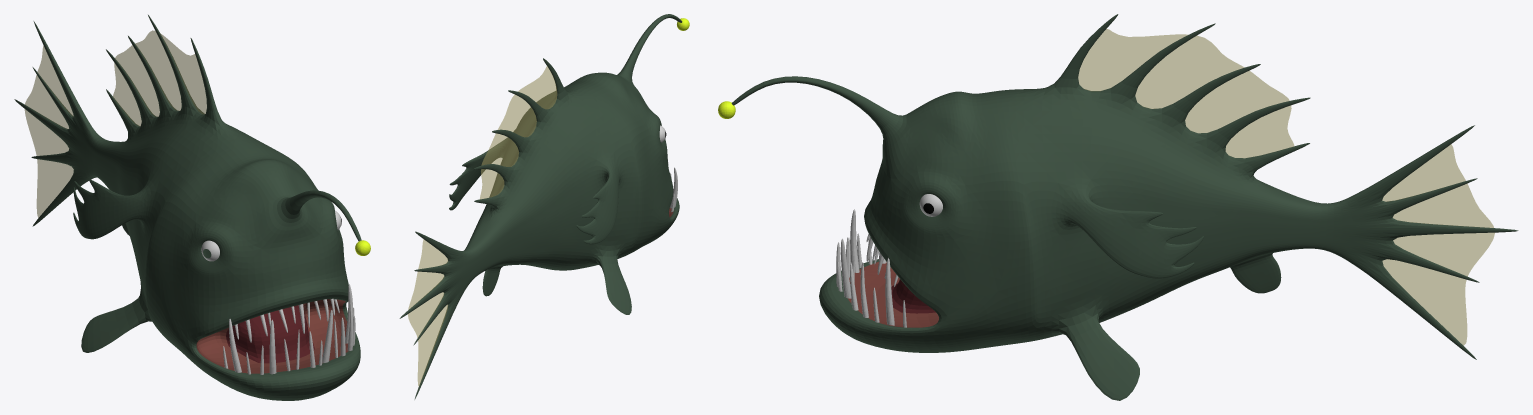
File: anglerfish_04.obj
The picture shows the model from 3 angles, left to right: view 1: azimuth 30°, elevation 25°; view 2: azimuth 150°, elevation 25°; view 3: azimuth 270°, elevation 25°; orthographic projection. The views are drawn at different scales.
Parts seen in each view (by area): view 1: Body, Webbing, Teeth_Bottom, Teeth_Top; view 2: Body, Webbing; view 3: Body, Webbing, Teeth_Bottom.
Boxes of the visible parts, left/top/right/bottom form: Body: left=14, top=15, right=361, bottom=400; Webbing: left=24, top=30, right=206, bottom=217; Teeth_Bottom: left=223, top=284, right=355, bottom=374; Teeth_Top: left=234, top=298, right=339, bottom=342; Body: left=399, top=14, right=682, bottom=399; Webbing: left=408, top=66, right=557, bottom=386; Body: left=731, top=14, right=1518, bottom=400; Webbing: left=1078, top=29, right=1494, bottom=345; Teeth_Bottom: left=836, top=209, right=906, bottom=327.
Bounding box in the file's own units: 8.57 × 11.69 × 24.48.
